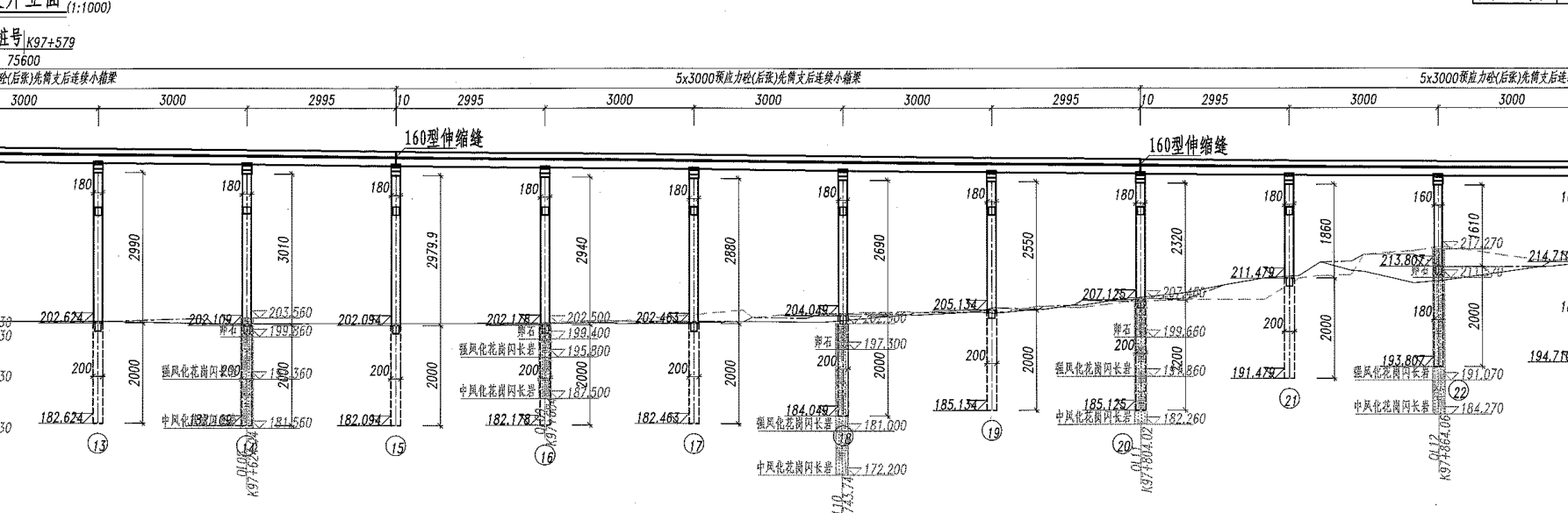A: (2, 46, 1568, 77)
B: (388, 65, 1151, 96), (1132, 60, 1568, 94), (4, 68, 417, 95)
C: (1372, 168, 1505, 407), (477, 161, 566, 469), (30, 156, 120, 460), (625, 164, 716, 460), (331, 160, 420, 462), (180, 160, 266, 457), (922, 165, 1012, 445), (1075, 169, 1160, 457), (778, 164, 862, 450), (1223, 168, 1310, 415)
